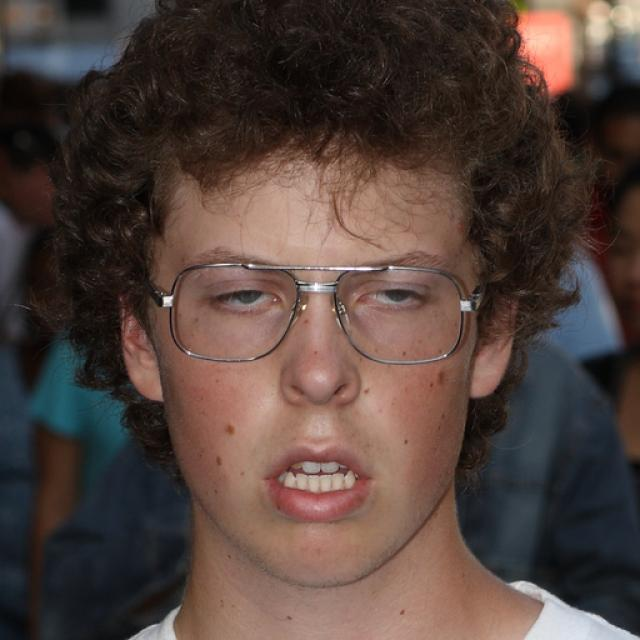Acne: (357, 379, 374, 405), (218, 420, 242, 438), (210, 453, 230, 471)
Spots: (431, 368, 453, 390), (427, 416, 450, 435), (398, 432, 418, 453)
